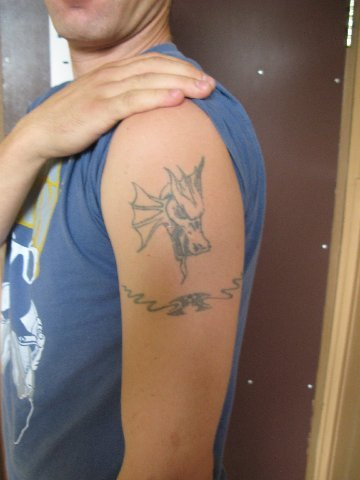tatu6_drakon: (121, 149, 225, 283)
